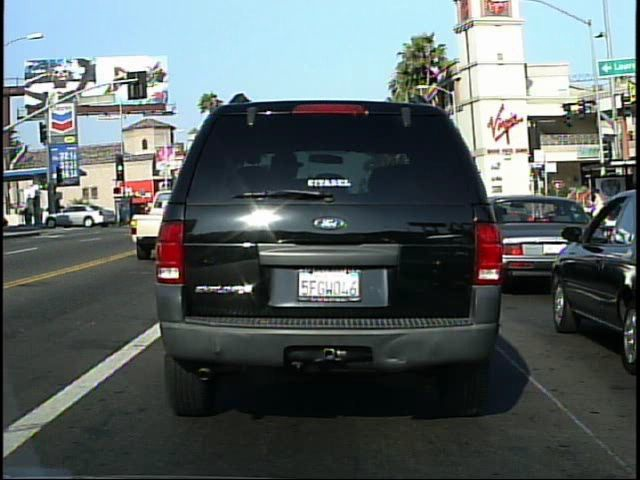person: (587, 186, 609, 241)
